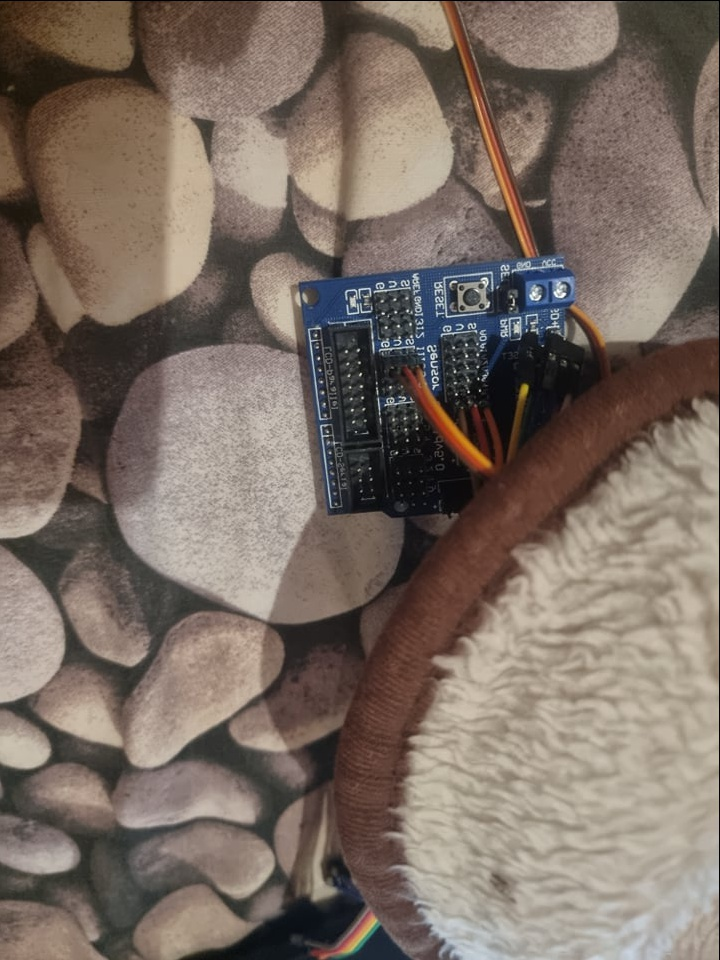5V EXPANSION: (293, 253, 578, 513)
